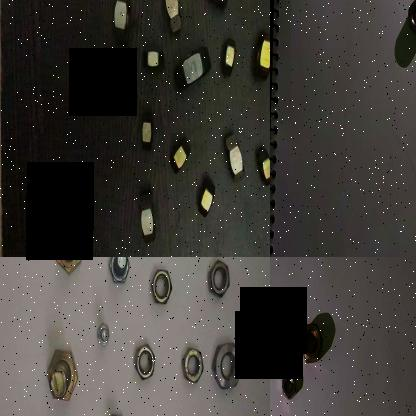Bolts: (41, 340, 80, 414), (105, 257, 133, 293), (53, 257, 87, 284), (92, 318, 114, 347)
NUTS: (127, 182, 159, 257), (174, 41, 216, 93), (210, 339, 244, 393), (144, 262, 178, 312), (219, 129, 250, 181), (110, 0, 138, 51), (178, 343, 206, 389), (132, 336, 160, 382), (217, 32, 242, 83), (204, 257, 231, 304), (298, 320, 325, 364), (251, 25, 270, 87), (153, 0, 183, 37), (194, 178, 218, 222), (166, 134, 192, 172), (250, 144, 270, 190), (142, 45, 166, 77), (137, 114, 155, 156), (278, 369, 300, 402), (405, 0, 416, 36), (206, 0, 230, 14)
